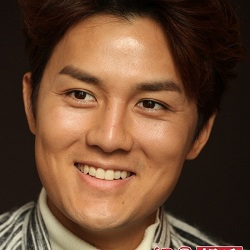unmask: (38, 48, 199, 237)
